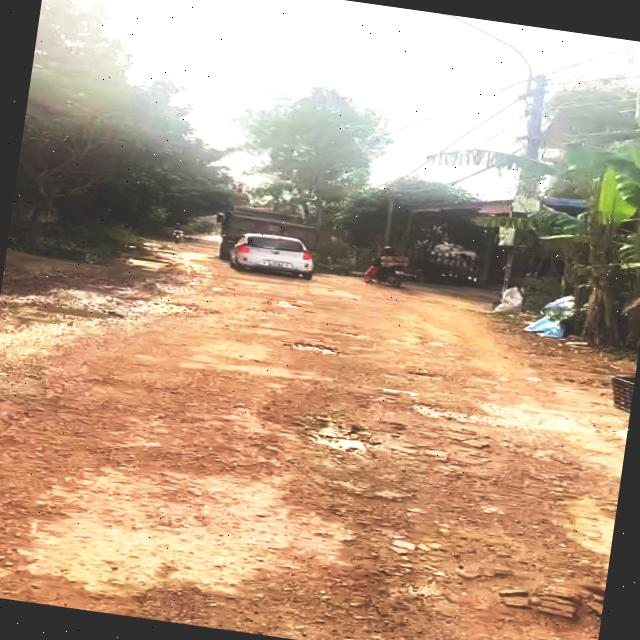pothole: (283, 410, 382, 460), (286, 338, 346, 357)
